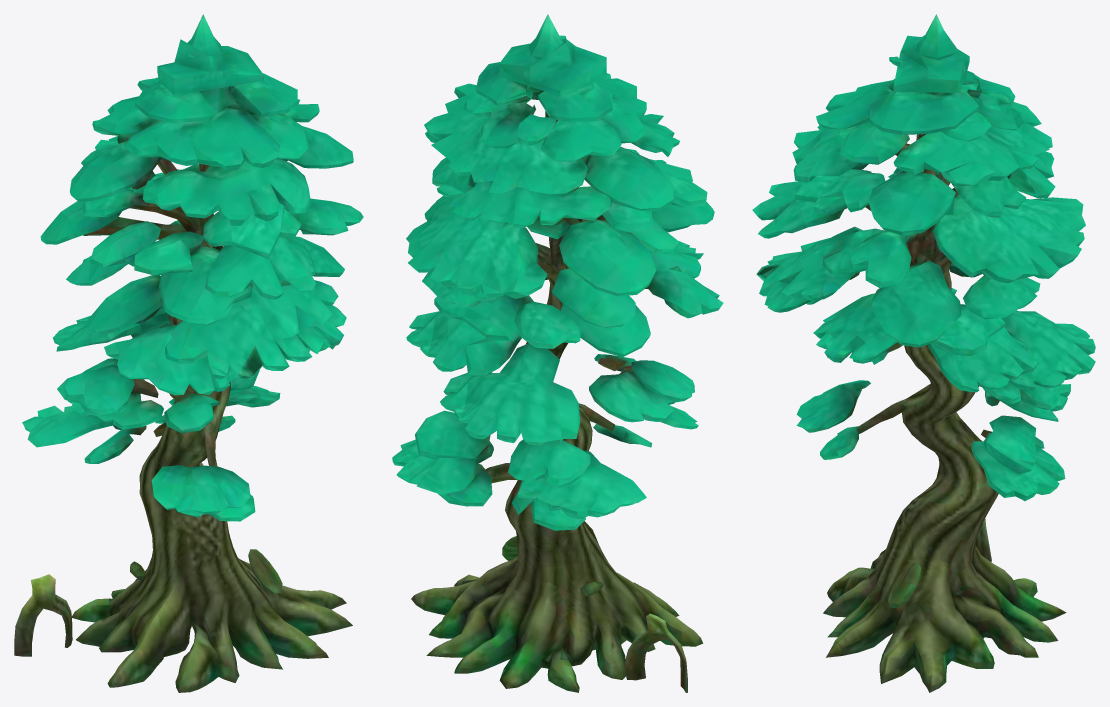
Rendered from pinetree.glb.
3 views of the same model, side by side, from view 1: azimuth 30°, elevation 25°; view 2: azimuth 150°, elevation 25°; view 3: azimuth 270°, elevation 25° (orthographic).
Visible parts, largest first — view 1: mesh_node; view 2: mesh_node; view 3: mesh_node.
Part boxes in pixels (box(x1,y1,x2,y2)): mesh_node: box(14, 14, 363, 692); mesh_node: box(392, 14, 723, 692); mesh_node: box(752, 14, 1095, 692).
Size of the model in its own units: 0.9785 by 1.91 by 0.9707.
Materials: 1 (1 with a texture image).
